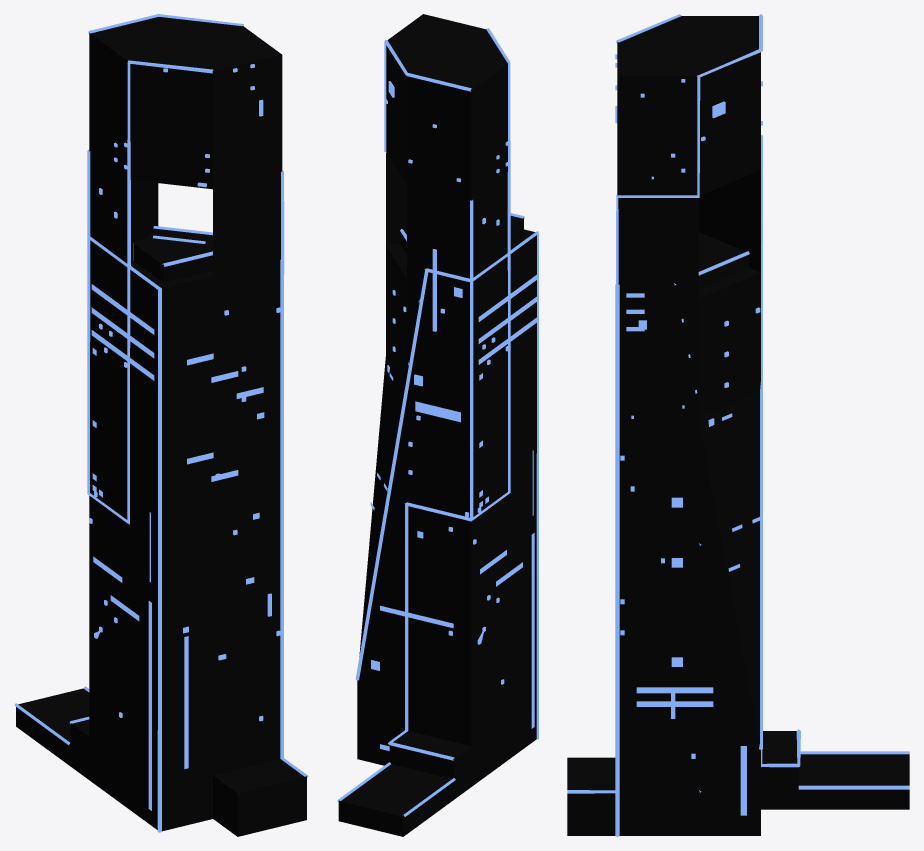
File: SM_Buildings2.fbx
3 renders of one model, left to right at view 1: azimuth 30°, elevation 25°; view 2: azimuth 150°, elevation 25°; view 3: azimuth 270°, elevation 25°, orthographic. The views are drawn at different scales.
Visible parts, largest first — view 1: Building.001, Building.002; view 2: Building.002, Building.001; view 3: Building.002, Building.001.
Part boxes in pixels (x1,y1,x2,y2): Building.001: (88,226,283,832); Building.002: (14,14,308,836); Building.002: (337,14,510,836); Building.001: (355,213,538,786); Building.002: (567,14,909,835); Building.001: (615,232,762,836).
Size of the model in its own units: 210 by 1170 by 477.
